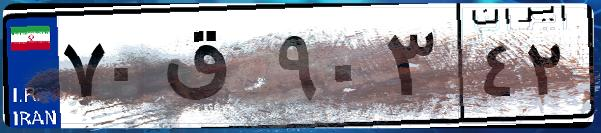0: (330, 28, 385, 110), (110, 28, 158, 98)
2: (525, 38, 570, 115)
3: (385, 28, 445, 110)
4: (475, 38, 525, 113)
7: (57, 26, 110, 100)
9: (270, 28, 330, 110)
ق: (158, 20, 270, 120)
